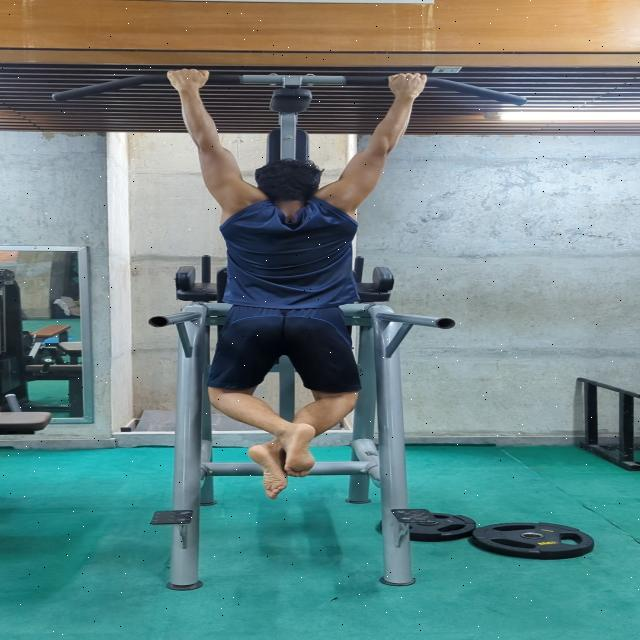Normal_PullUps: (157, 66, 436, 499)
